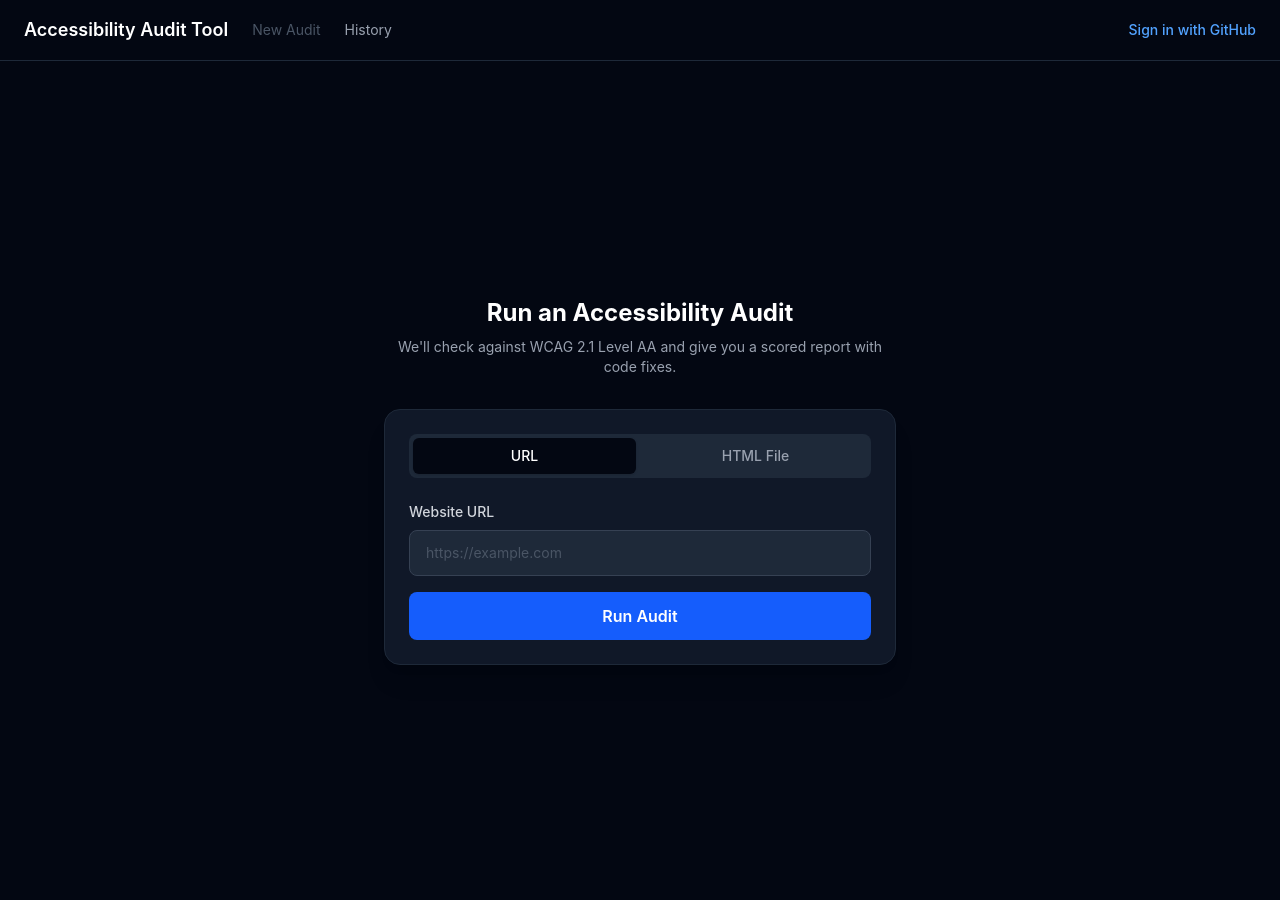
Scenario: AuditForm › shows an error when URL lacks http/https
Step 1. Type "ftp://example.com" into the field labelled "Website URL" → (640, 552), box [409,530,871,576]
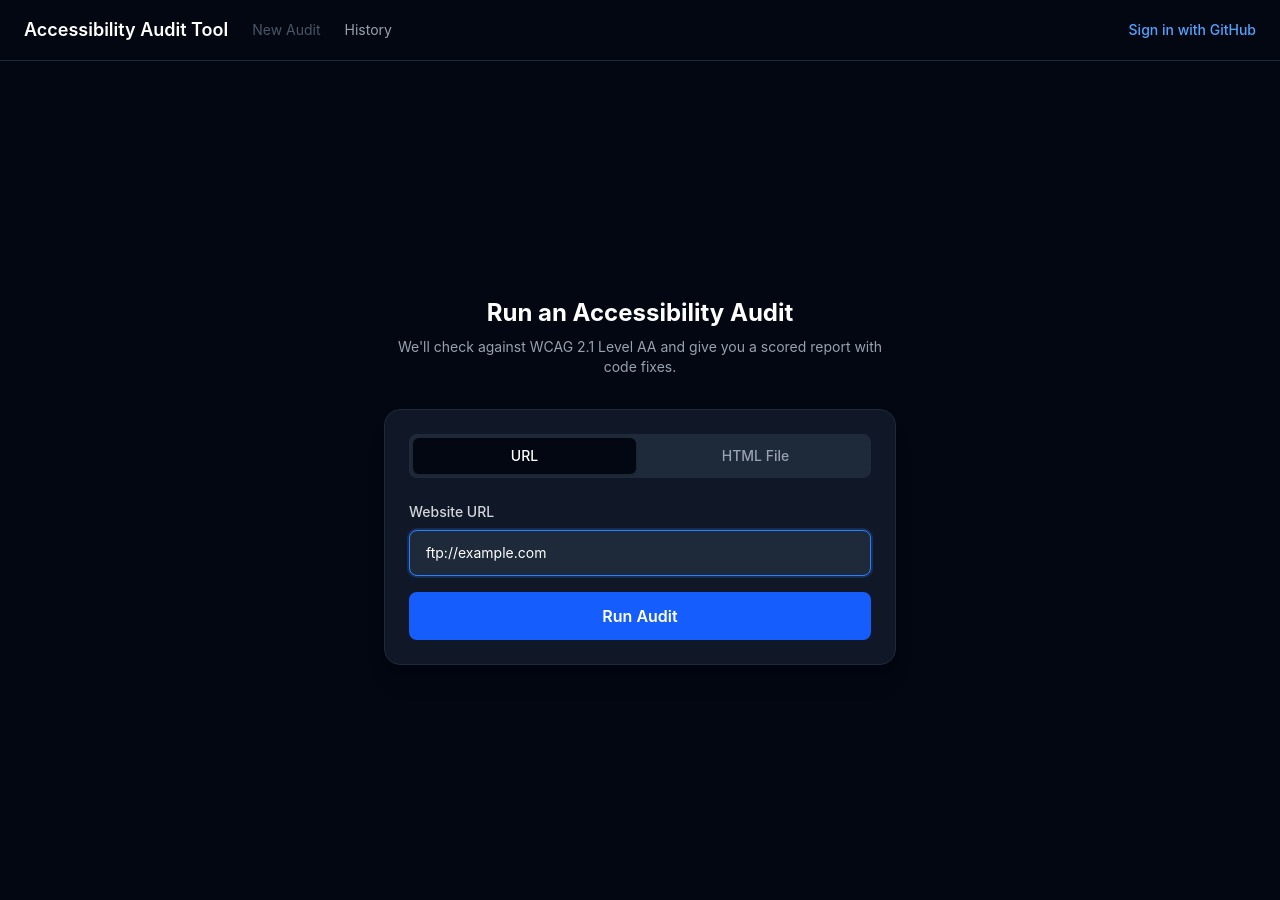
Step 2. Click the button "Run Audit" → (640, 616), box [409,592,871,640]
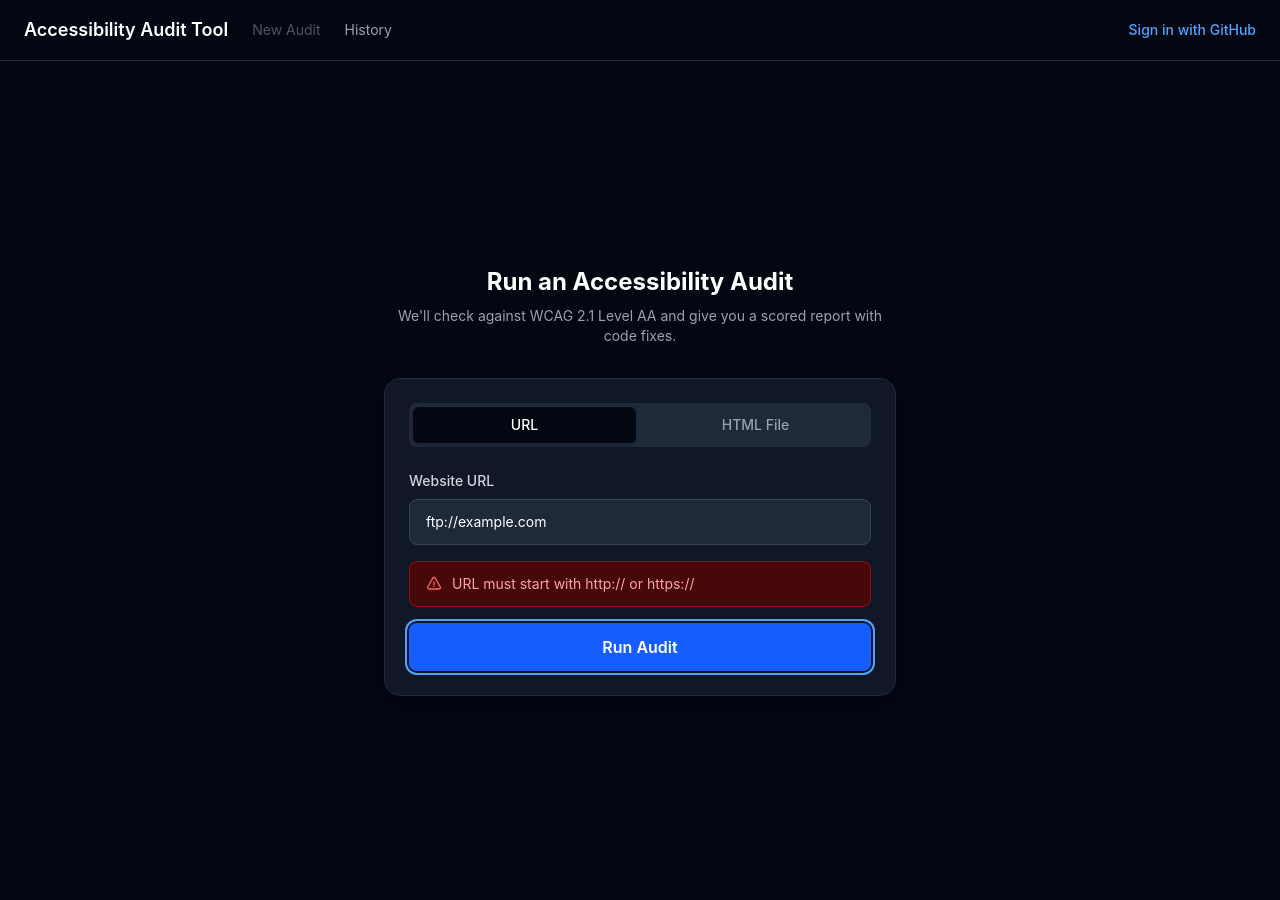
Now the message reads "URL must start with http:// or https://", box [452,574,694,592]
